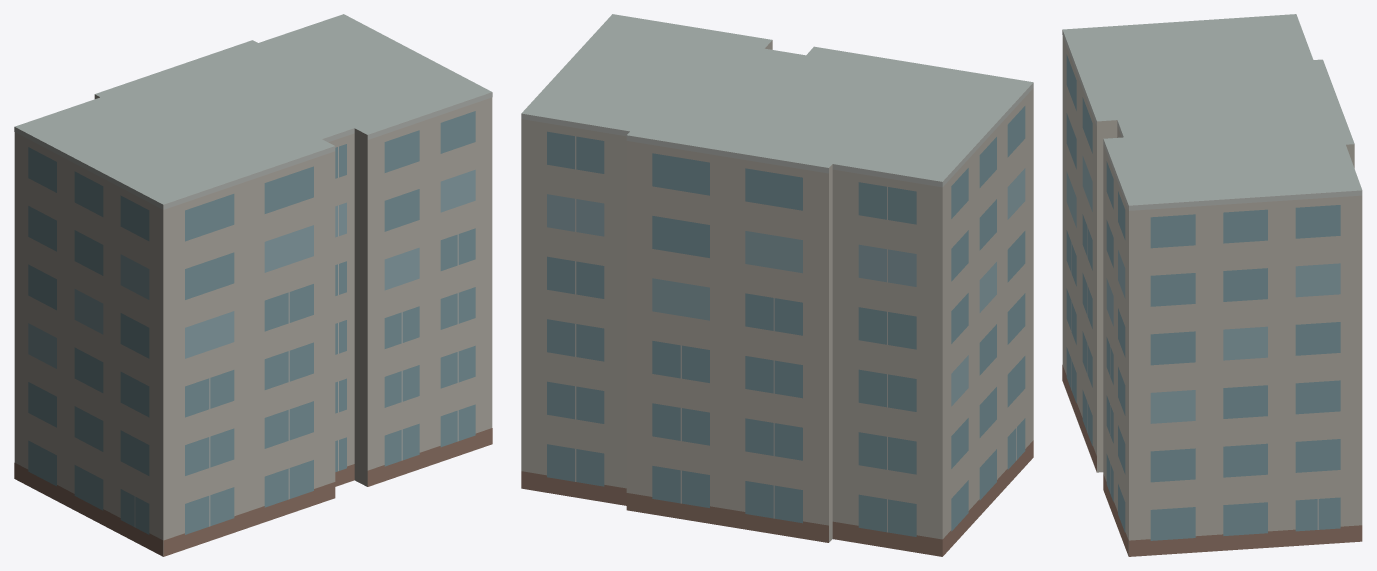
The model's file is survey-upis-32697155.glb.
The picture shows the model from 3 angles, left to right: view 1: azimuth 30°, elevation 25°; view 2: azimuth 150°, elevation 25°; view 3: azimuth 270°, elevation 25°; orthographic projection. The views are drawn at different scales.
Visible parts, largest first — view 1: survey-upis-32697155.tmp; view 2: survey-upis-32697155.tmp; view 3: survey-upis-32697155.tmp.
Boxes of the visible parts, box(x1,y1,x2,y2) form: survey-upis-32697155.tmp: box(14, 14, 492, 556); survey-upis-32697155.tmp: box(521, 14, 1033, 556); survey-upis-32697155.tmp: box(1062, 14, 1362, 556).
Size of the model in its own units: 19.45 by 16.6 by 12.86.
